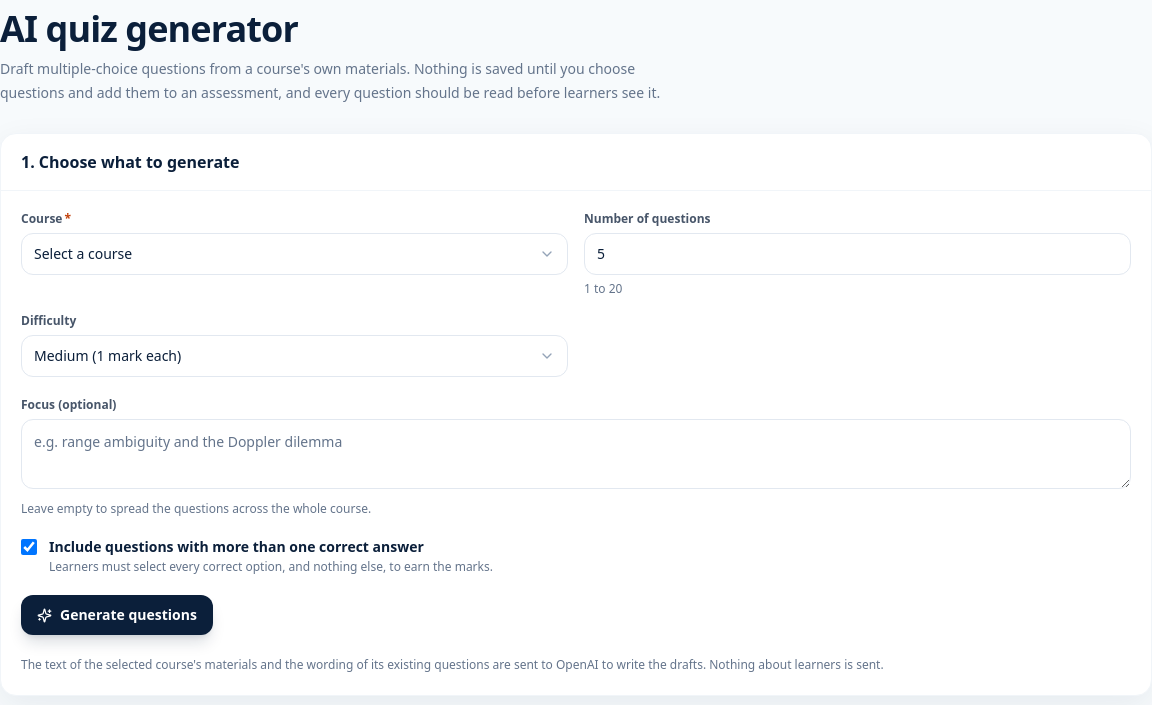
Test case: AI quiz generator › marks the correct answers and shows the explanation and marks
Select "Doppler Radar Analysis" in the dropdown labelled "Course*" at (294, 254), box [21,233,568,275]
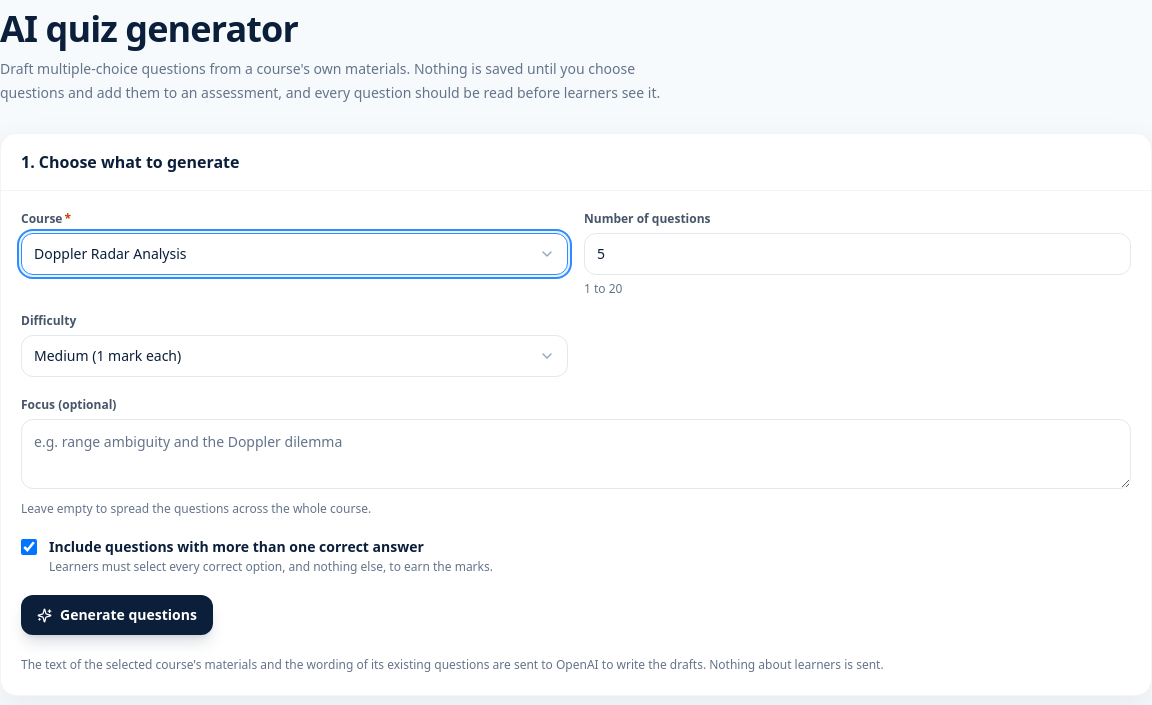
Click the button "Generate questions".
click(117, 615)  # box [21,595,213,635]
(page scrolled)
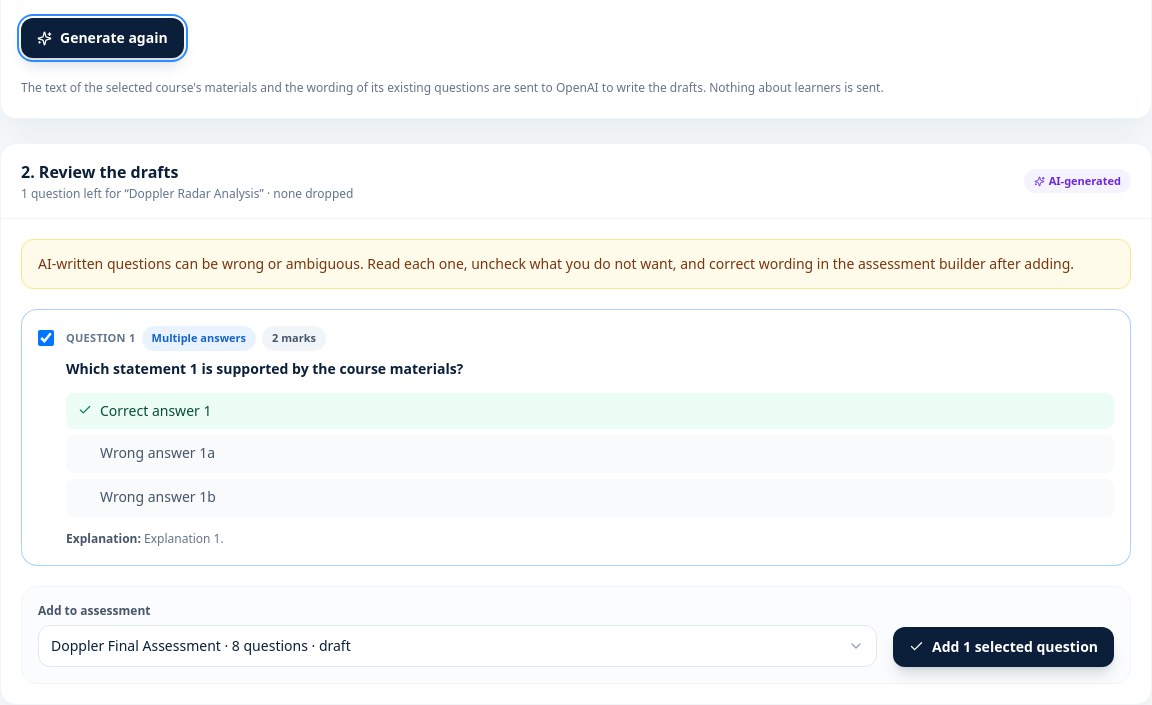
Expected: the text "Multiple answers" is shown, [142,326,256,350]
Expected: the text "2 marks" is shown, [262,326,326,350]
Expected: the text "Explanation: Explanation 1." is shown, [66,530,224,546]
